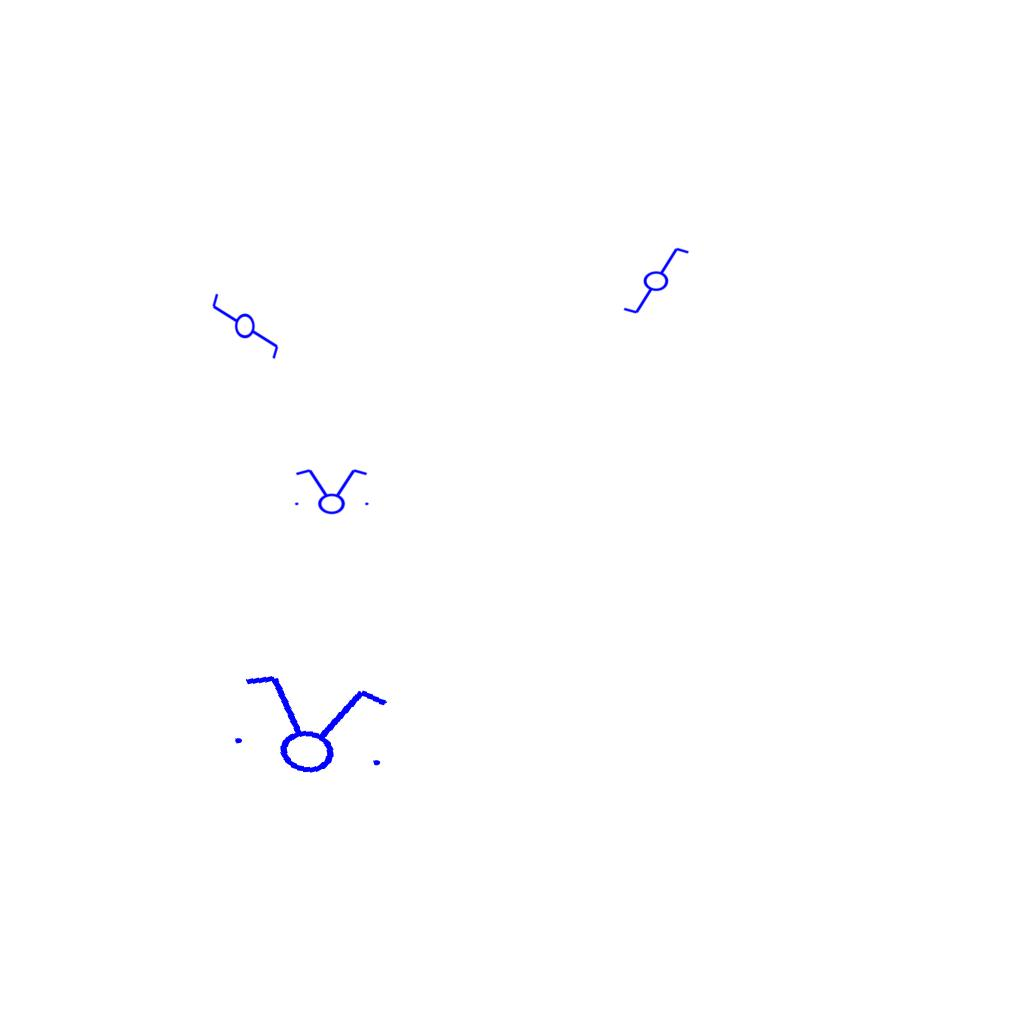Serienschalter: (219, 665, 401, 787), (289, 467, 373, 515)
Wechselschalter: (210, 283, 282, 361), (613, 244, 691, 316)
